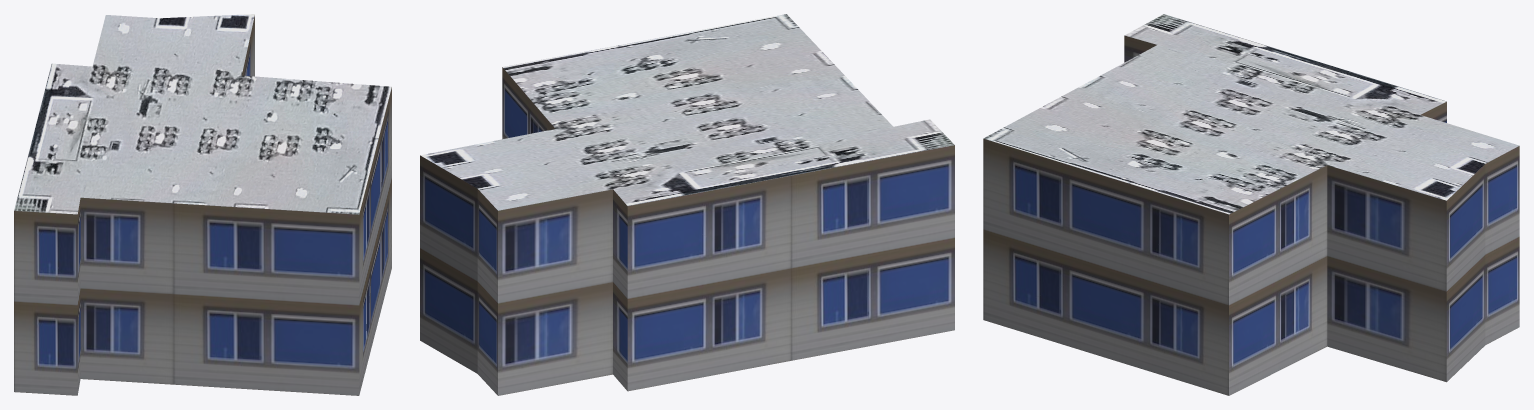
File: ResTex__1971.fbx
3 views of the same model, side by side, from view 1: azimuth 30°, elevation 25°; view 2: azimuth 150°, elevation 25°; view 3: azimuth 270°, elevation 25° (orthographic). The views are drawn at different scales.
Parts seen in each view (by area): view 1: CityEngineMaterial_23_m, CityEngineMaterial_4_m; view 2: CityEngineMaterial_23_m, CityEngineMaterial_4_m; view 3: CityEngineMaterial_23_m, CityEngineMaterial_4_m.
Boxes of the visible parts, bbox=[...] form: CityEngineMaterial_23_m: bbox=[14, 15, 391, 395]; CityEngineMaterial_4_m: bbox=[14, 14, 391, 214]; CityEngineMaterial_23_m: bbox=[420, 67, 954, 395]; CityEngineMaterial_4_m: bbox=[420, 14, 954, 210]; CityEngineMaterial_23_m: bbox=[983, 35, 1519, 395]; CityEngineMaterial_4_m: bbox=[983, 14, 1519, 214].
Bounding box in the file's own units: 14.21 × 6 × 16.07.
2 materials, 2 textured.
